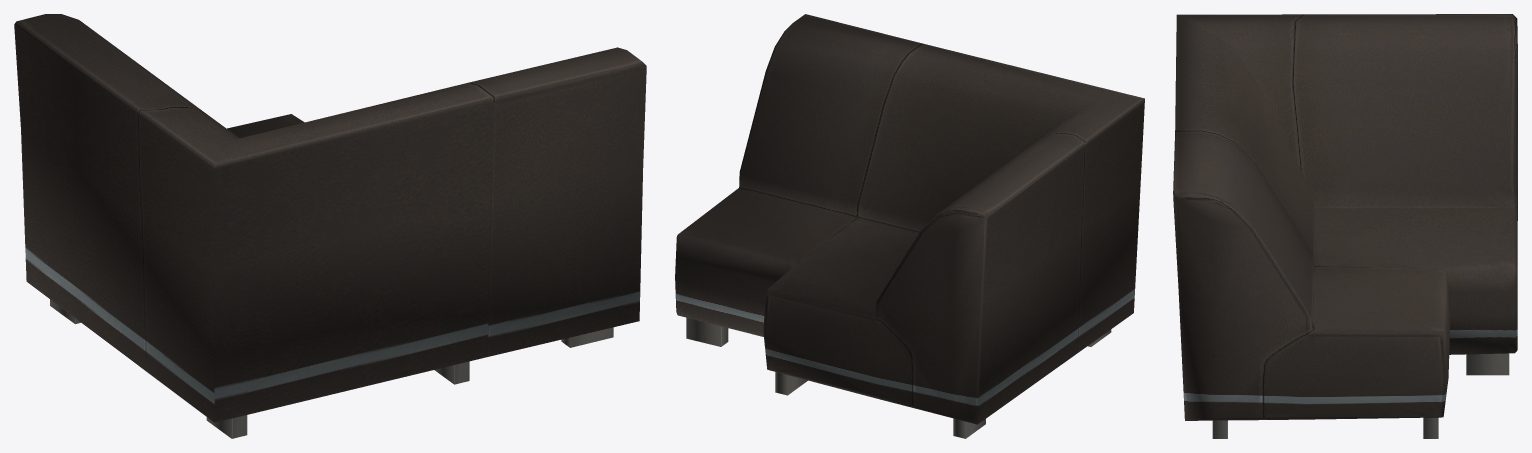
File: Couch06_B.FBX
3 views of the same model, side by side, from view 1: azimuth 30°, elevation 25°; view 2: azimuth 150°, elevation 25°; view 3: azimuth 270°, elevation 25° (orthographic). The views are drawn at different scales.
Visible parts, largest first — view 1: Couch06_B; view 2: Couch06_B; view 3: Couch06_B.
Boxes of the visible parts, <box> form: Couch06_B: <box>14,14,646,438</box>; Couch06_B: <box>675,14,1144,438</box>; Couch06_B: <box>1173,14,1517,438</box>.
Bounding box in the file's own units: 1.56 × 1 × 1.26.
